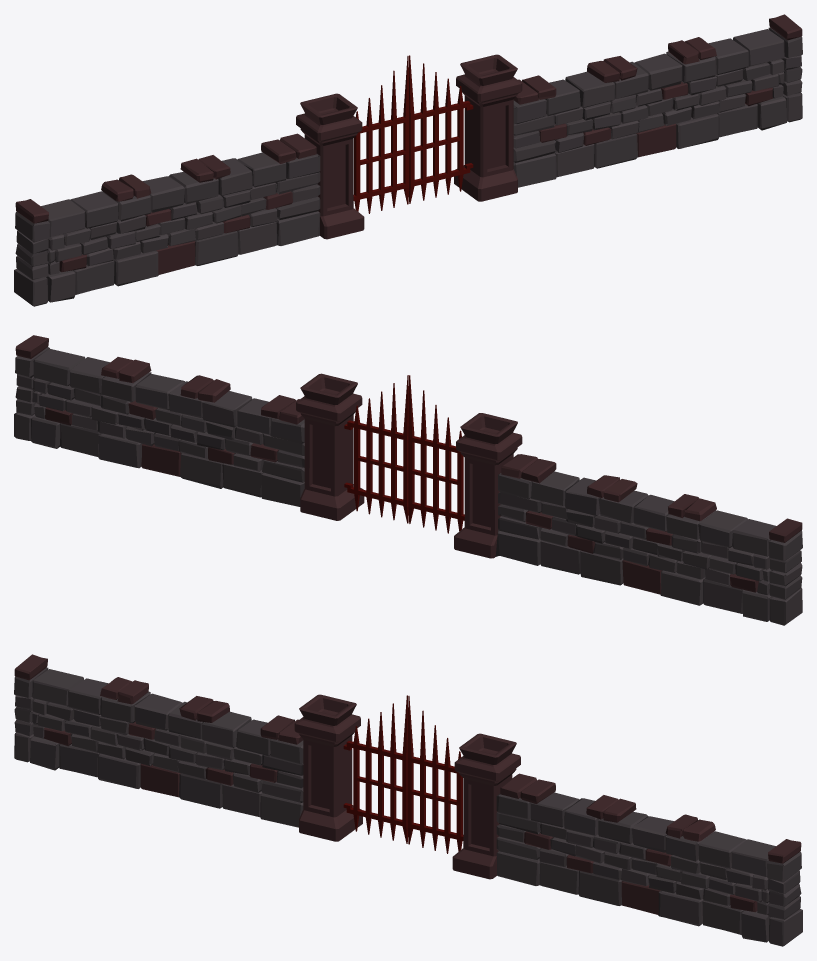
File: gate_normal.fbx
The picture shows the model from 3 angles, top to bottom: view 1: azimuth 30°, elevation 25°; view 2: azimuth 150°, elevation 25°; view 3: azimuth 330°, elevation 25°; orthographic projection.
Parts seen in each view (by area): view 1: Wall; view 2: Wall; view 3: Wall.
Part boxes in pixels (box(x1,y1,x2,y2)): Wall: box(14, 14, 802, 306); Wall: box(14, 335, 802, 625); Wall: box(14, 654, 802, 946).
Bounding box in the file's own units: 51.34 × 3.03 × 9.67.
